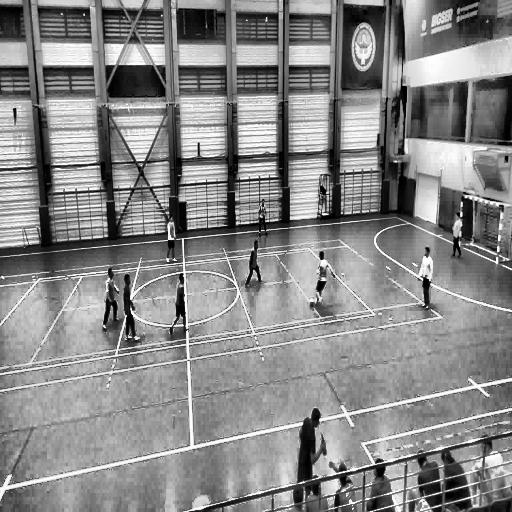ball: (309, 296, 315, 308)
player: (296, 410, 325, 502), (103, 266, 120, 330), (170, 270, 187, 334), (123, 274, 139, 340), (313, 249, 329, 309), (243, 239, 262, 287), (419, 247, 432, 310), (451, 210, 464, 258), (166, 215, 178, 263), (258, 198, 268, 234)
